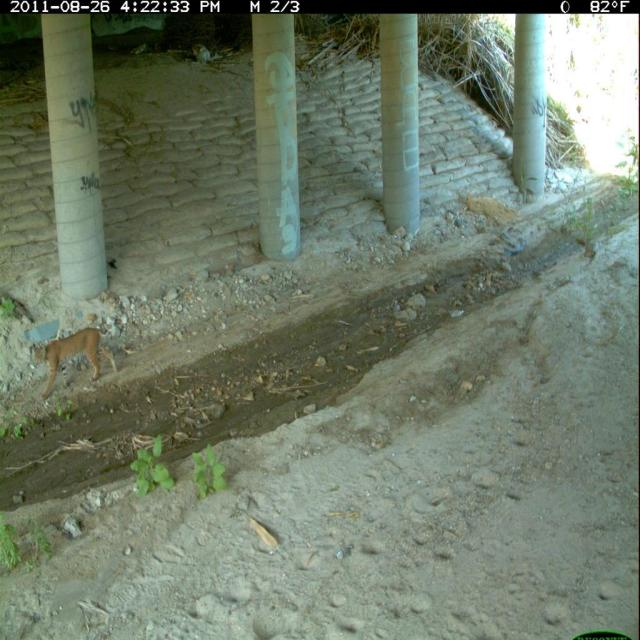bobcat: (29, 323, 123, 405)
